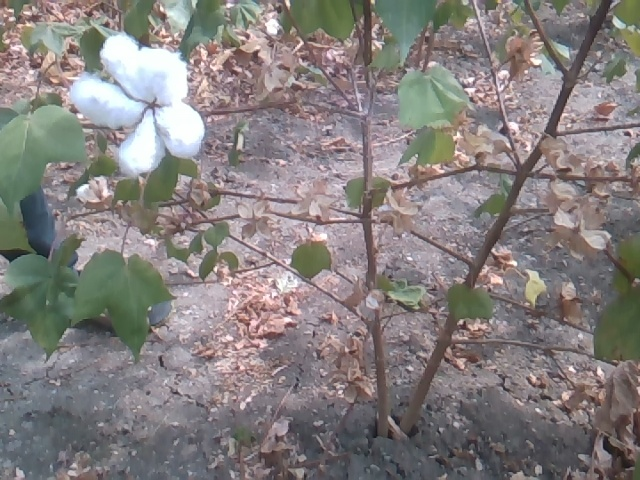cotton: (69, 34, 204, 176)
